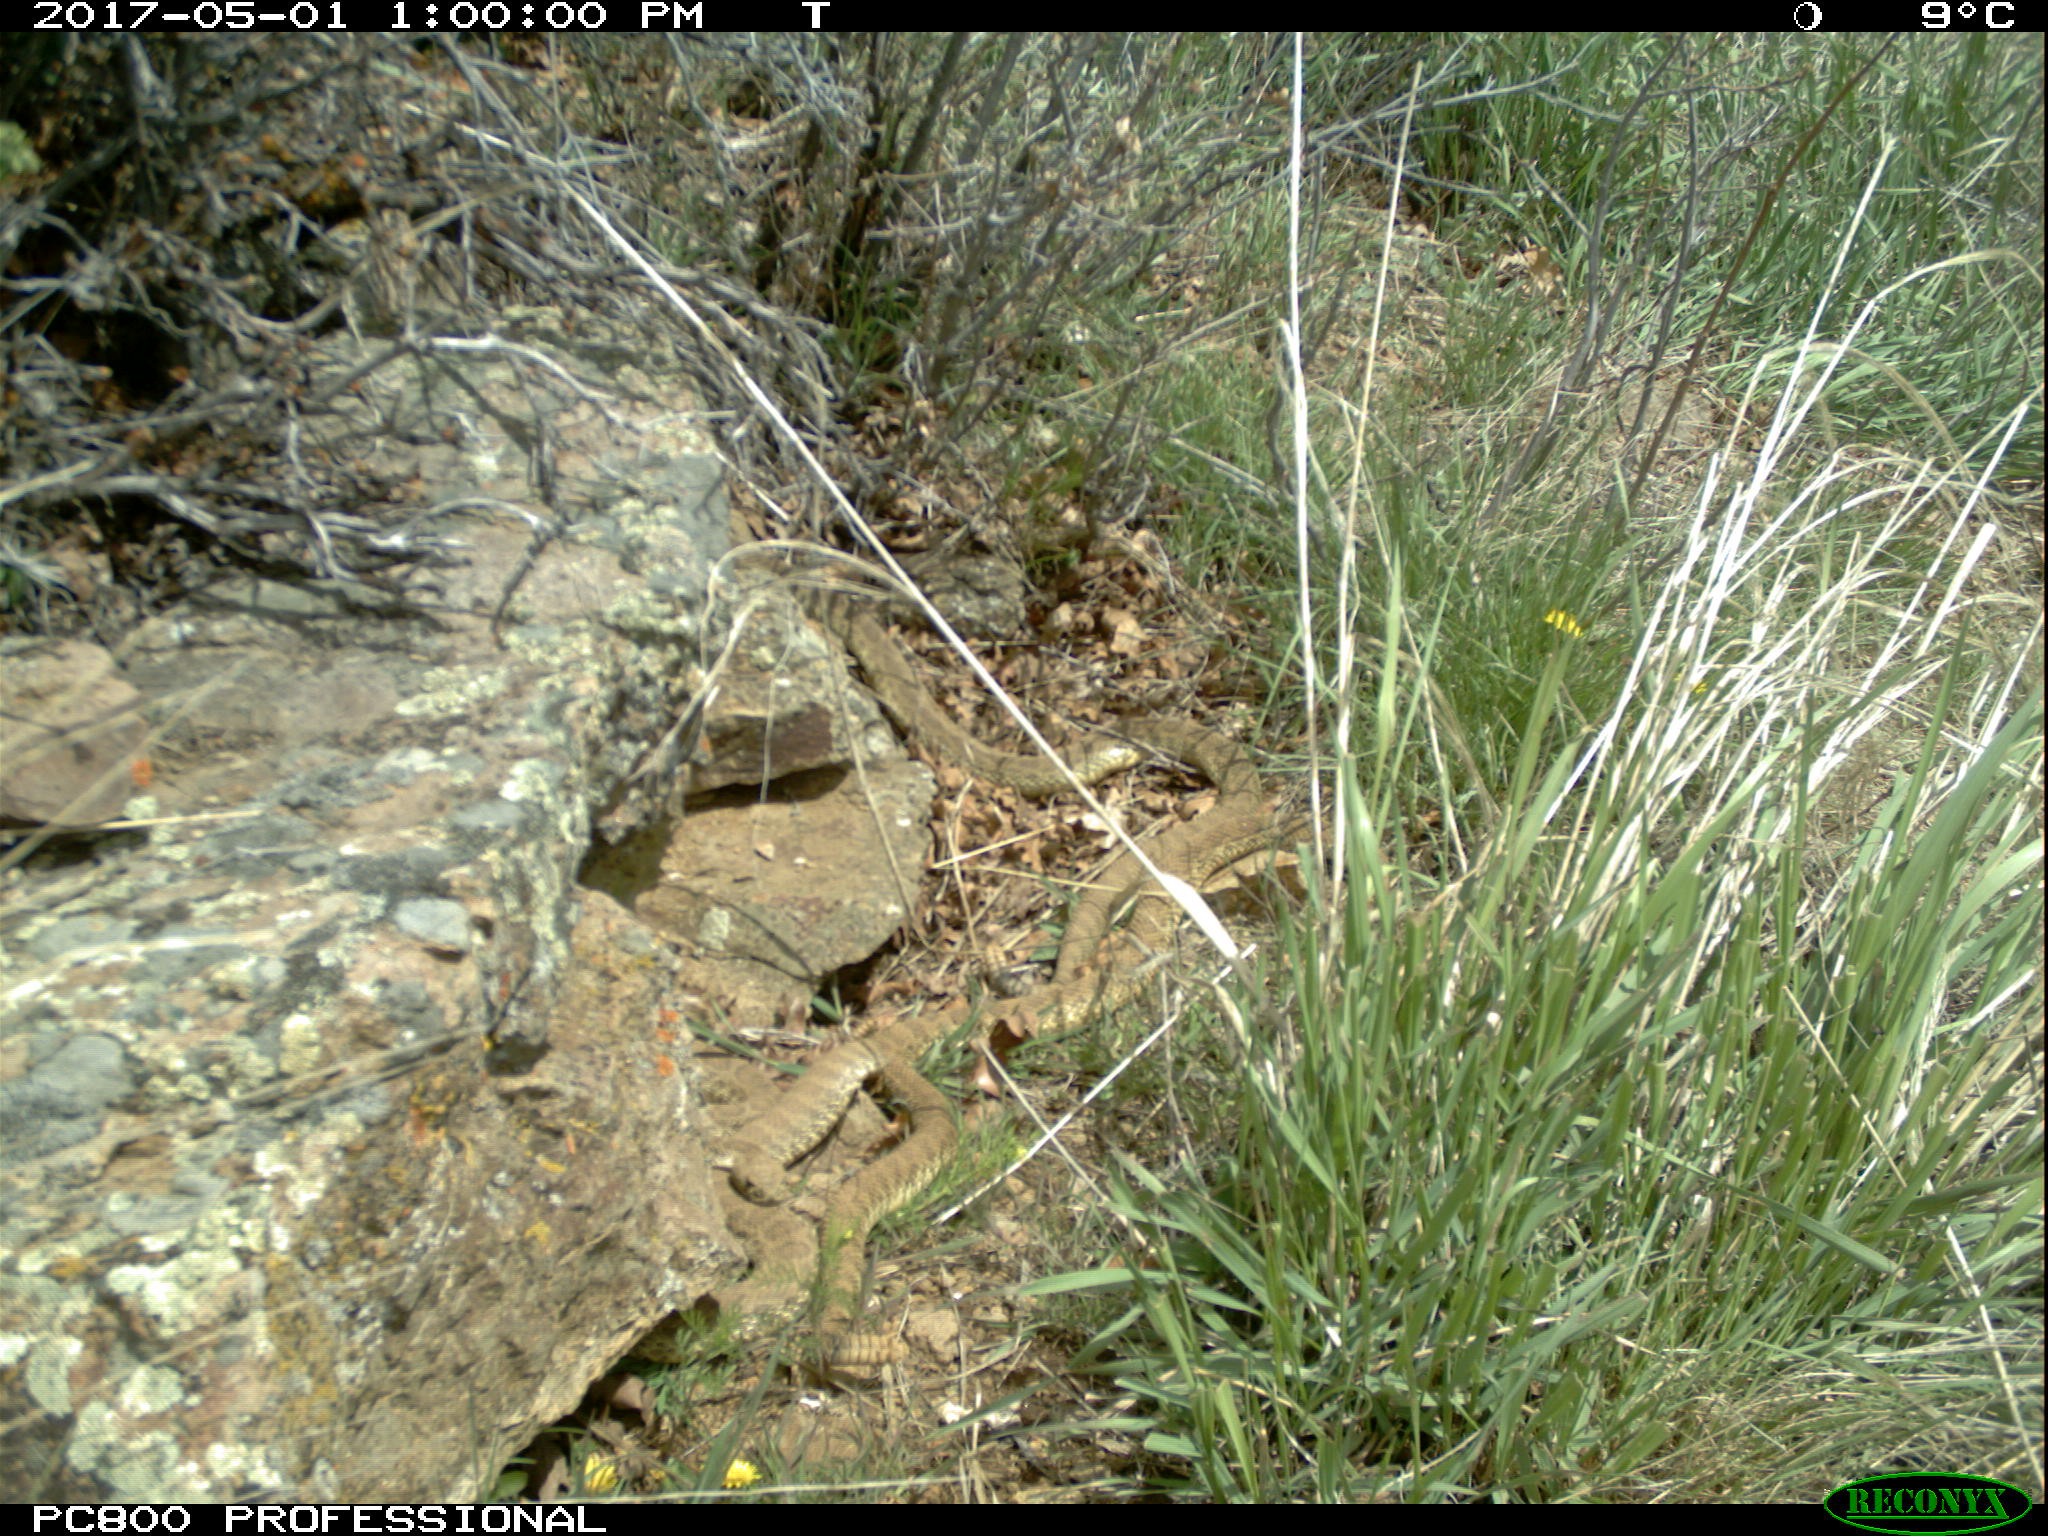snake: (619, 581, 1292, 1384)
